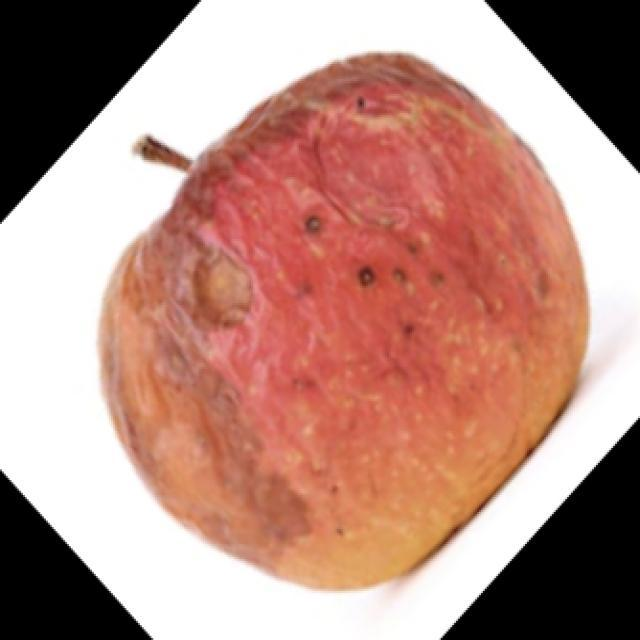Rotten: (109, 48, 584, 580)
